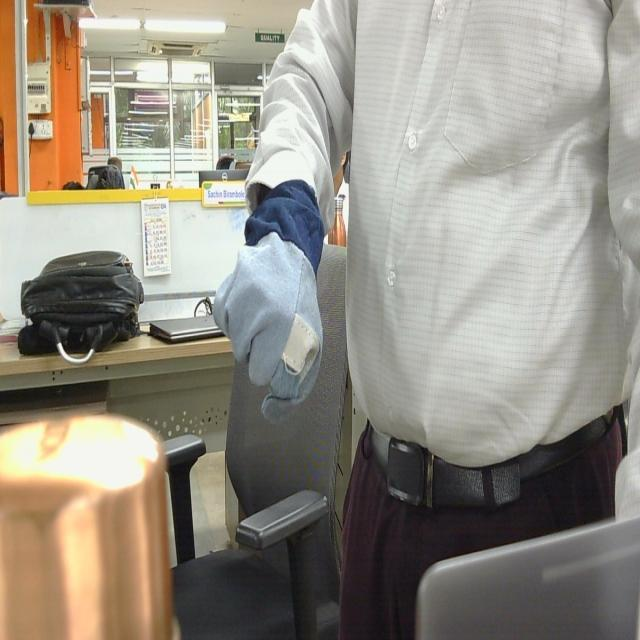Gloves-Detection: (209, 189, 332, 421)
